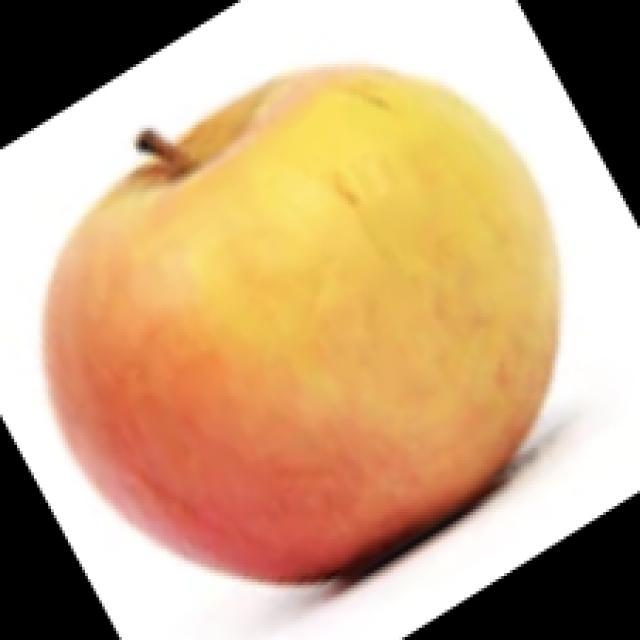Fresh Apple: (107, 80, 565, 607)
